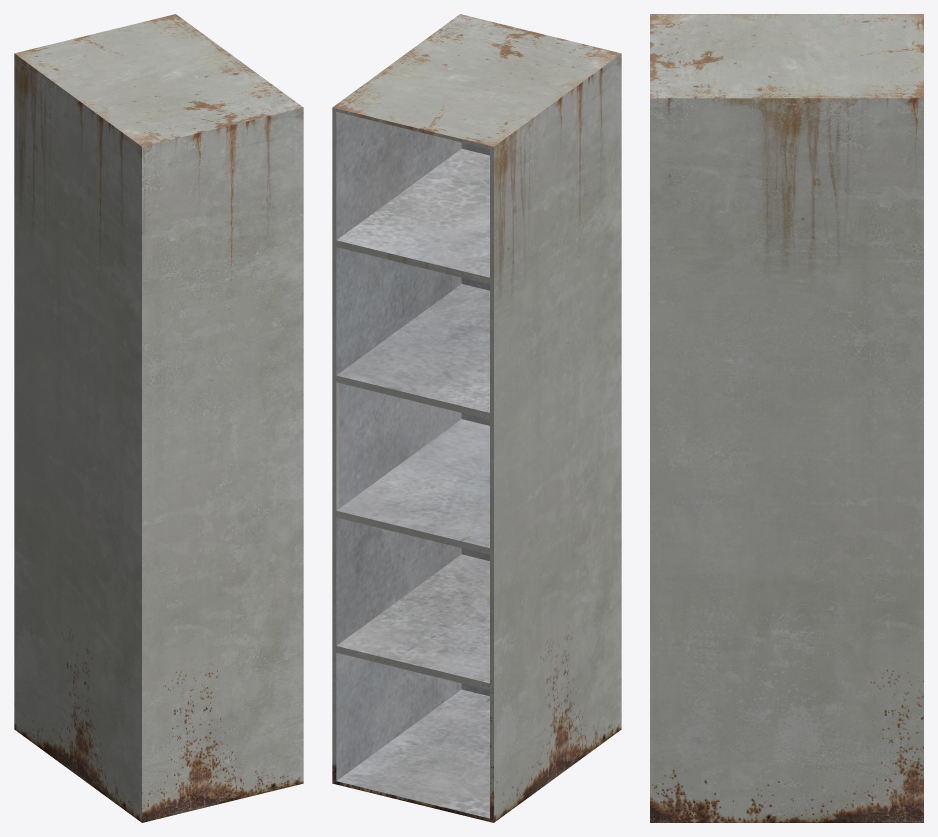
The model's file is FileCabinet.fbx.
3 views of the same model, side by side, from view 1: azimuth 30°, elevation 25°; view 2: azimuth 150°, elevation 25°; view 3: azimuth 270°, elevation 25° (orthographic). The views are drawn at different scales.
Parts seen in each view (by area): view 1: FileCabinet1; view 2: FileCabinet1; view 3: FileCabinet1.
Boxes of the visible parts, x1=… form: FileCabinet1: x1=14, y1=14, x2=303, y2=822; FileCabinet1: x1=332, y1=14, x2=621, y2=822; FileCabinet1: x1=650, y1=14, x2=923, y2=822.
Bounding box in the file's own units: 0.5114 × 2.05 × 0.7006.
